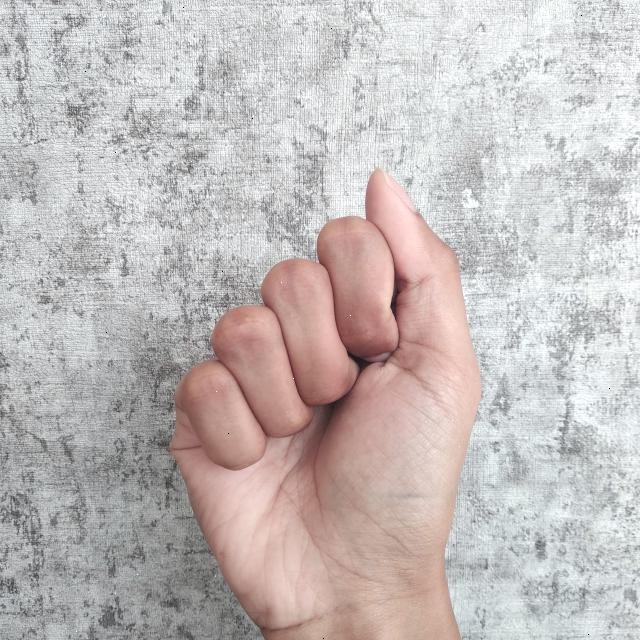A: (163, 159, 489, 640)
